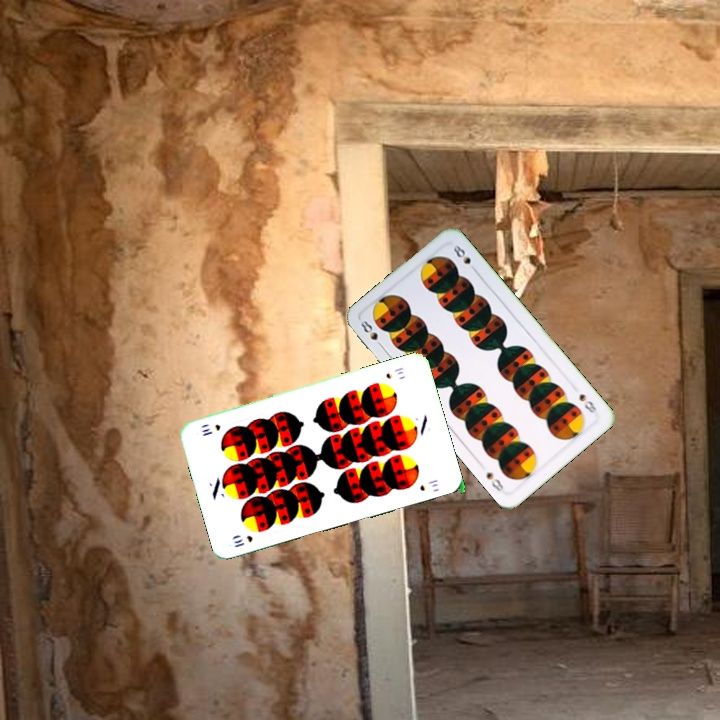S10: (230, 531, 255, 550), (382, 363, 406, 381)
S8: (356, 316, 387, 351), (575, 390, 599, 415)
